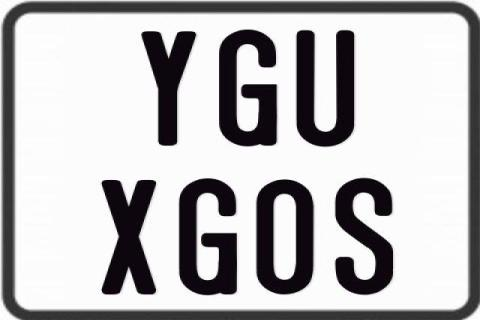0: (253, 178, 311, 294)
G: (178, 177, 242, 299), (219, 27, 282, 148)
S: (334, 176, 393, 295)
U: (293, 28, 357, 145)
X: (99, 180, 158, 296)
Y: (140, 30, 195, 148)
